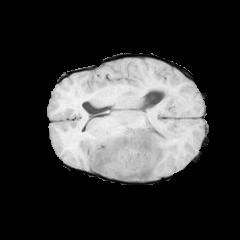glioma: (91, 125, 178, 180)
